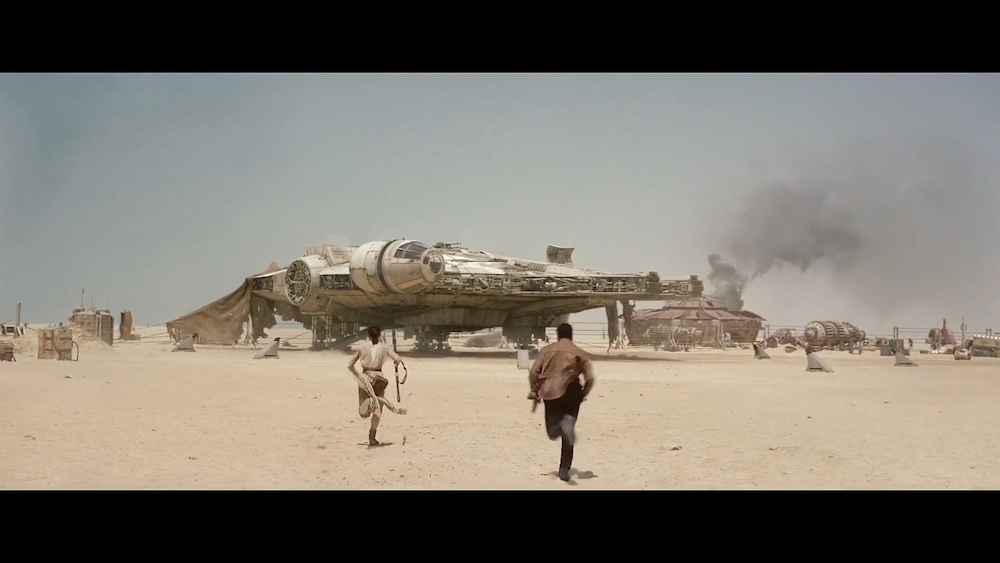Millennium Falcon: (242, 238, 704, 330)
